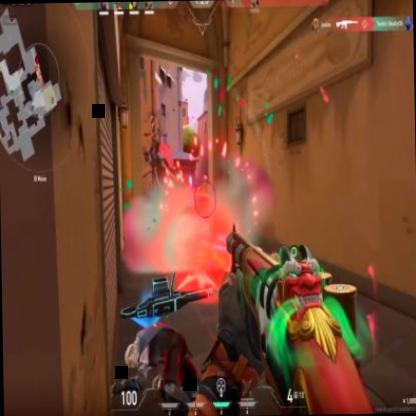enemy: (148, 113, 160, 166)
enemy_head: (149, 114, 155, 124)
